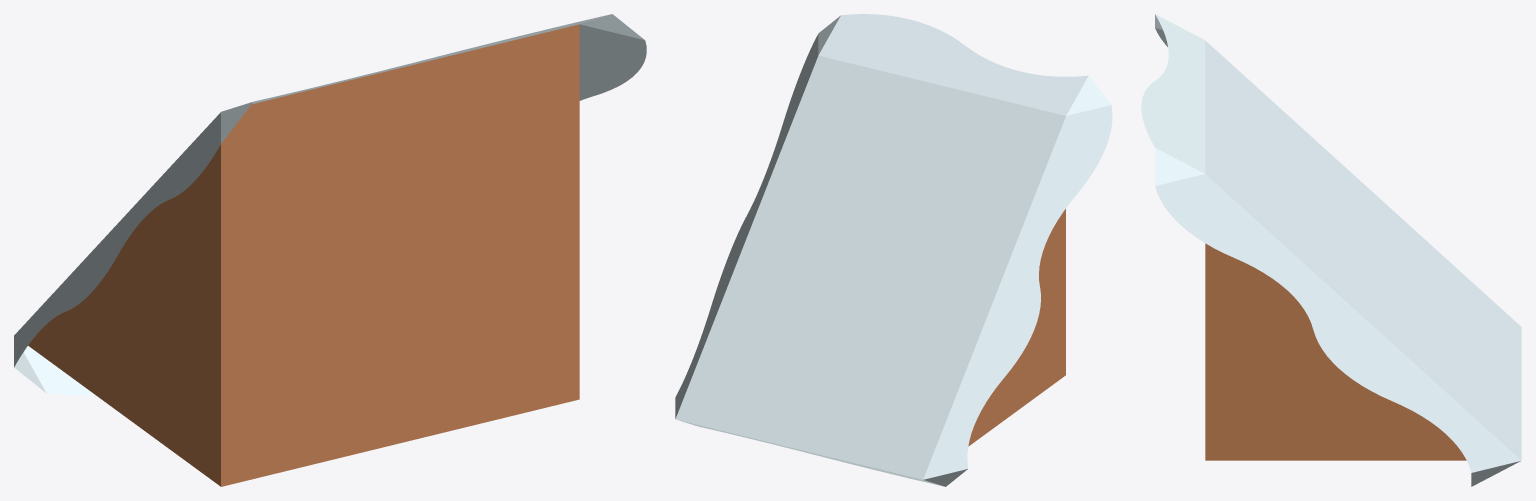
Rendered from blockSnowSlope.obj.
The picture shows the model from 3 angles, left to right: view 1: azimuth 30°, elevation 25°; view 2: azimuth 150°, elevation 25°; view 3: azimuth 270°, elevation 25°; orthographic projection. The views are drawn at different scales.
Parts seen in each view (by area): view 1: blockSnowSlope; view 2: blockSnowSlope; view 3: blockSnowSlope.
Boxes of the visible parts, x1=… form: blockSnowSlope: x1=14, y1=14, x2=646, y2=486; blockSnowSlope: x1=675, y1=14, x2=1112, y2=486; blockSnowSlope: x1=1141, y1=14, x2=1521, y2=486.
Size of the model in its own units: 1.23 by 1.23 by 1.2.
